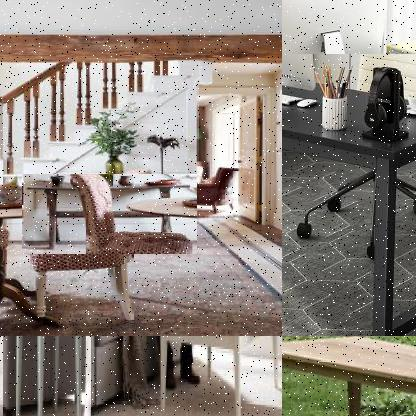table: (282, 54, 415, 335), (0, 190, 99, 335), (22, 174, 198, 255), (282, 336, 415, 415), (158, 336, 281, 415), (3, 336, 93, 415)
